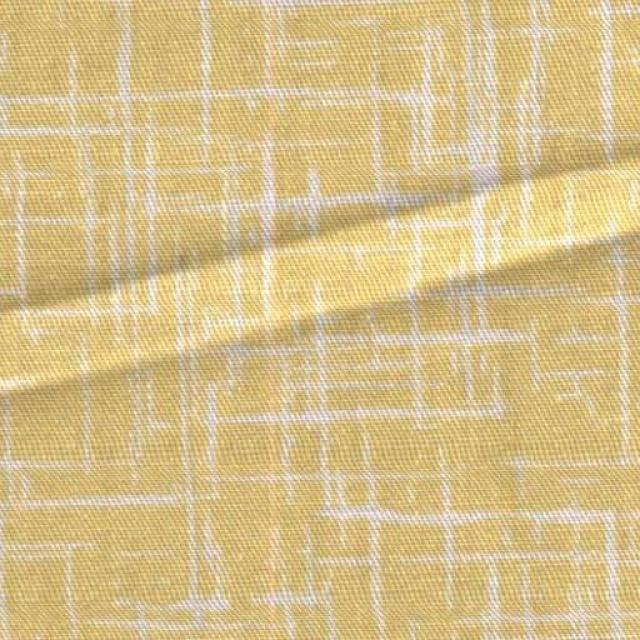broken_yarn: (4, 215, 638, 405), (2, 146, 635, 329)
